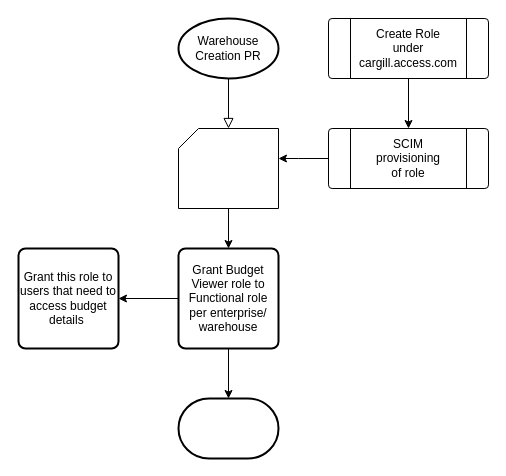
This 506x476 diagram has some shape labels left out. The shapes that lost their labels are listed below. From the top down, each one's box as (x1, y1, x2, y2) in pixels, then its label:
(178, 128, 278, 208): Functional Role for Budget
(177, 397, 279, 459): Role can view budget for their enteroprise
